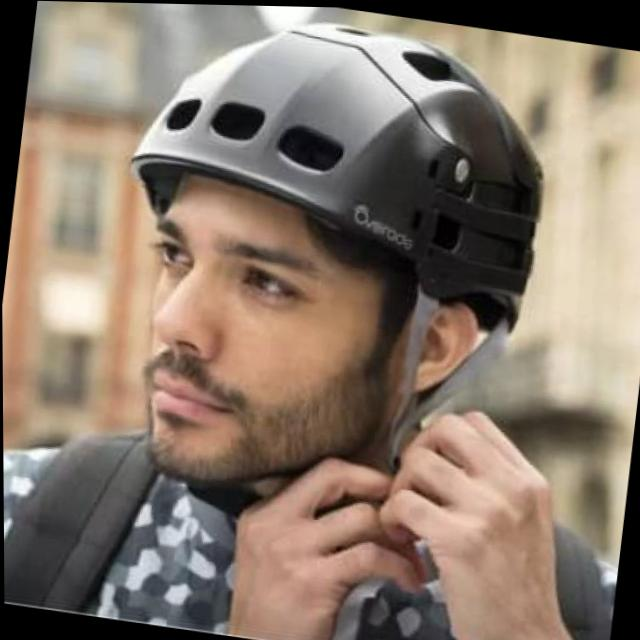helmet: (93, 2, 565, 536)
